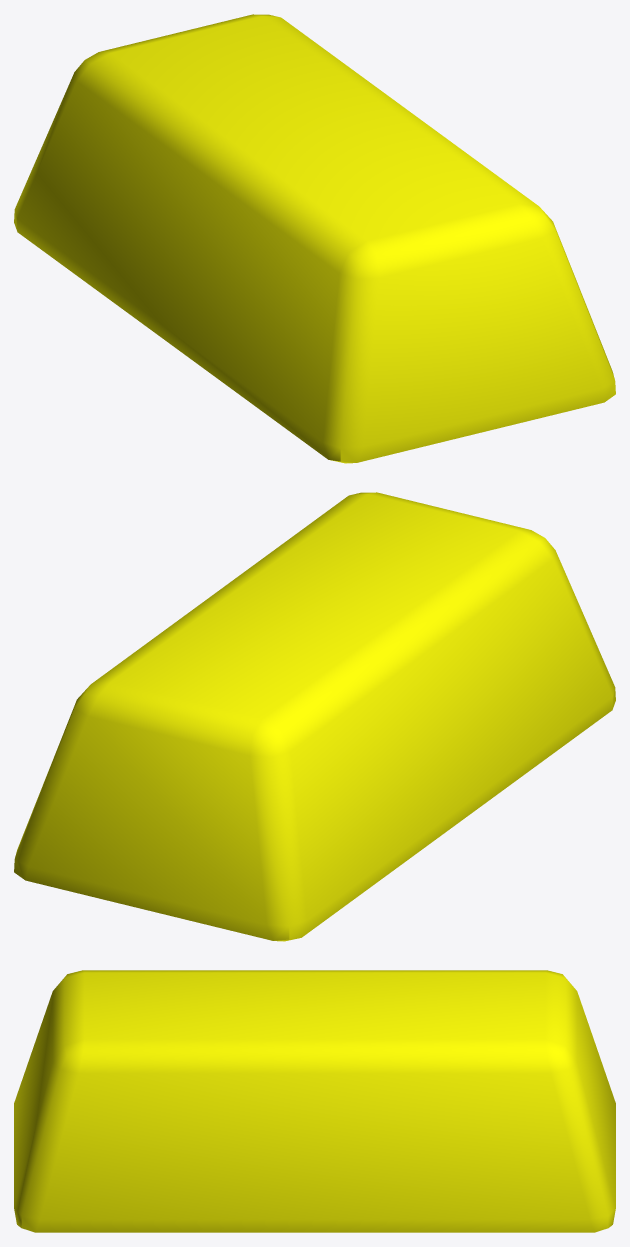
Rendered from kaykit-copper-bar.glb.
The picture shows the model from 3 angles, top to bottom: view 1: azimuth 30°, elevation 25°; view 2: azimuth 150°, elevation 25°; view 3: azimuth 270°, elevation 25°; orthographic projection. The views are drawn at different scales.
Visible parts, largest first — view 1: Copper_Bar; view 2: Copper_Bar; view 3: Copper_Bar.
Part boxes in pixels (<box>): Copper_Bar: <box>14,14,615,463</box>; Copper_Bar: <box>14,492,615,941</box>; Copper_Bar: <box>14,970,615,1232</box>.
Size of the model in its own units: 0.4001 by 0.25 by 0.8.
